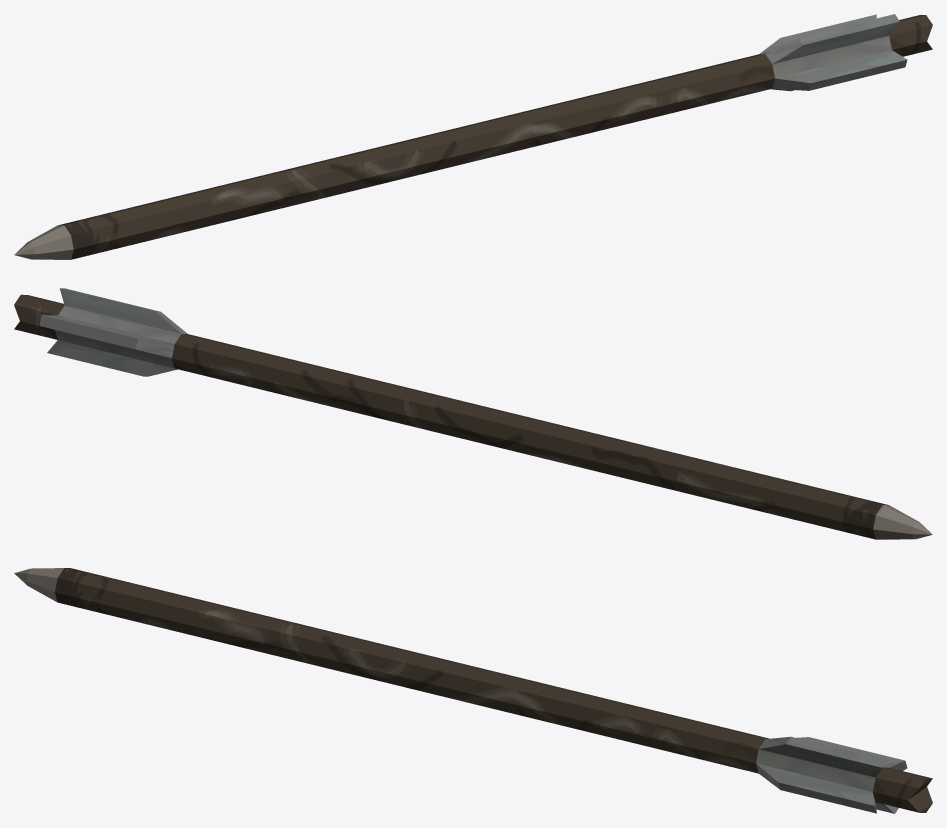
Rendered from WoodBolt.fbx.
The picture shows the model from 3 angles, top to bottom: view 1: azimuth 30°, elevation 25°; view 2: azimuth 150°, elevation 25°; view 3: azimuth 330°, elevation 25°; orthographic projection.
Parts seen in each view (by area): view 1: Cylinder.016; view 2: Cylinder.016; view 3: Cylinder.016.
Part boxes in pixels (x1,y1,x2,y2): Cylinder.016: [14, 14, 932, 259]; Cylinder.016: [14, 288, 932, 539]; Cylinder.016: [14, 568, 932, 813].
Size of the model in its own units: 948 by 58.87 by 58.88.
